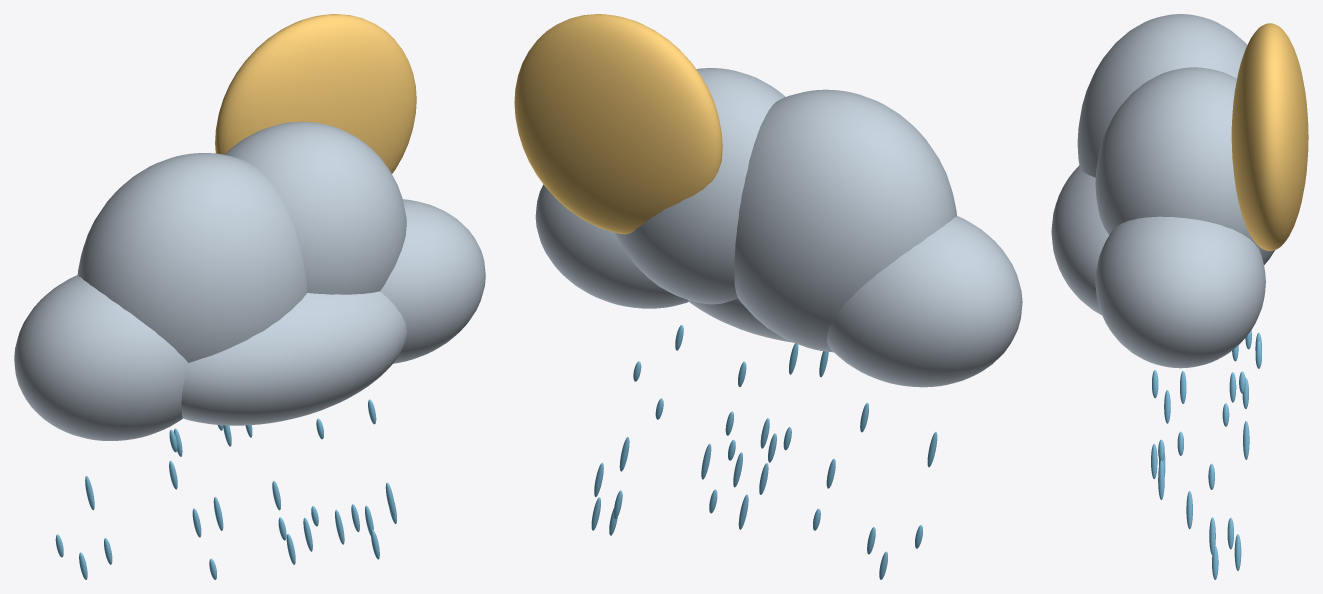
File: weather.glb
The picture shows the model from 3 angles, left to right: view 1: azimuth 30°, elevation 25°; view 2: azimuth 150°, elevation 25°; view 3: azimuth 270°, elevation 25°; orthographic projection. The views are drawn at different scales.
Parts seen in each view (by area): view 1: Cloud_1, Cloud_0, Sun, Cloud_4, Cloud_2, Cloud_3; view 2: Cloud_1, Sun, Cloud_0, Cloud_2, Cloud_3, Cloud_4; view 3: Cloud_3, Cloud_2, Sun, Cloud_1, Cloud_4.
Part boxes in pixels (box(x1,y1,x2,y2)): Cloud_1: box(77, 153, 307, 362); Cloud_0: box(14, 275, 188, 440); Sun: box(215, 14, 416, 173); Cloud_4: box(181, 291, 407, 425); Cloud_2: box(224, 121, 406, 294); Cloud_3: box(380, 199, 485, 363); Cloud_1: box(734, 89, 956, 352); Sun: box(514, 14, 722, 234); Cloud_0: box(827, 216, 1022, 387); Cloud_2: box(615, 68, 785, 304); Cloud_3: box(535, 184, 688, 308); Cloud_4: box(688, 298, 792, 342); Cloud_3: box(1095, 216, 1265, 368); Cloud_2: box(1095, 67, 1274, 264); Sun: box(1231, 23, 1308, 251); Cloud_1: box(1077, 14, 1247, 177); Cloud_4: box(1051, 165, 1109, 315).
Size of the model in its own units: 3.79 by 4.25 by 1.87.
